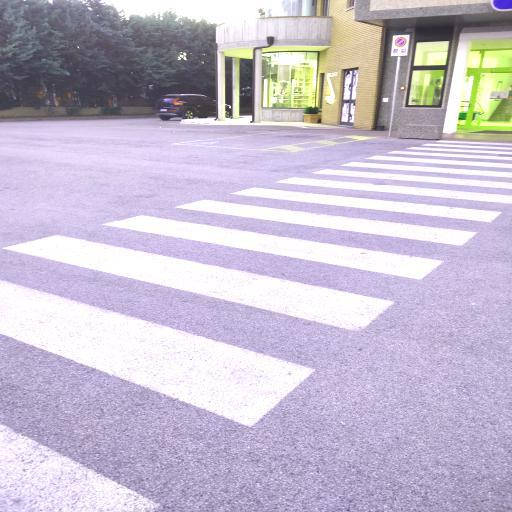crosswalk: (0, 212, 452, 337)
